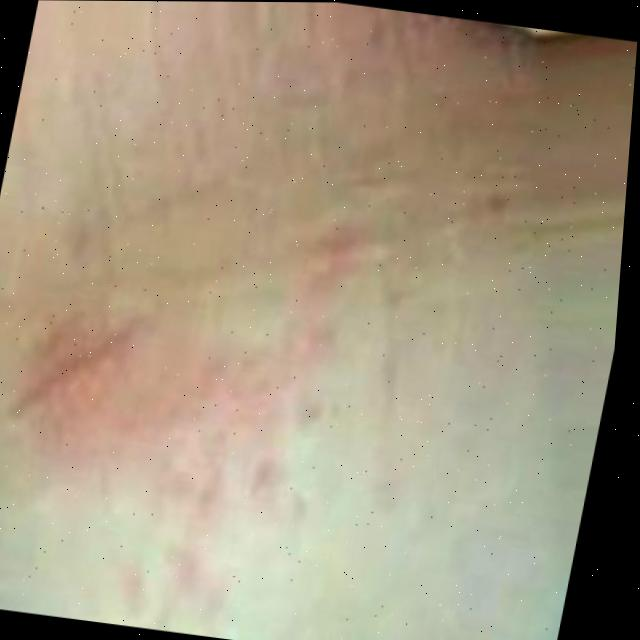Shingles: (0, 159, 400, 631)
